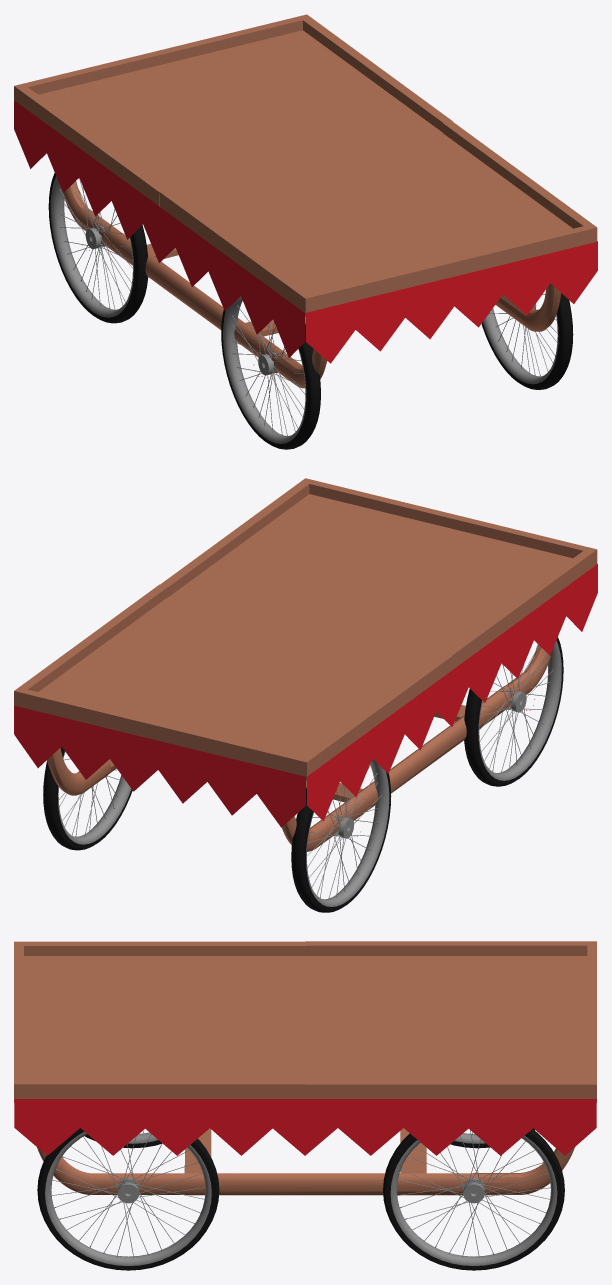
The model's file is rehri_nofruit.fbx.
The picture shows the model from 3 angles, top to bottom: view 1: azimuth 30°, elevation 25°; view 2: azimuth 150°, elevation 25°; view 3: azimuth 270°, elevation 25°; orthographic projection.
Parts seen in each view (by area): view 1: Cube.013; view 2: Cube.013; view 3: Cube.013.
Boxes of the visible parts, x1,y1,x2,y2 form: Cube.013: [14, 14, 597, 449]; Cube.013: [14, 478, 597, 912]; Cube.013: [14, 941, 596, 1270].
Bounding box in the file's own units: 330 × 208 × 568.
